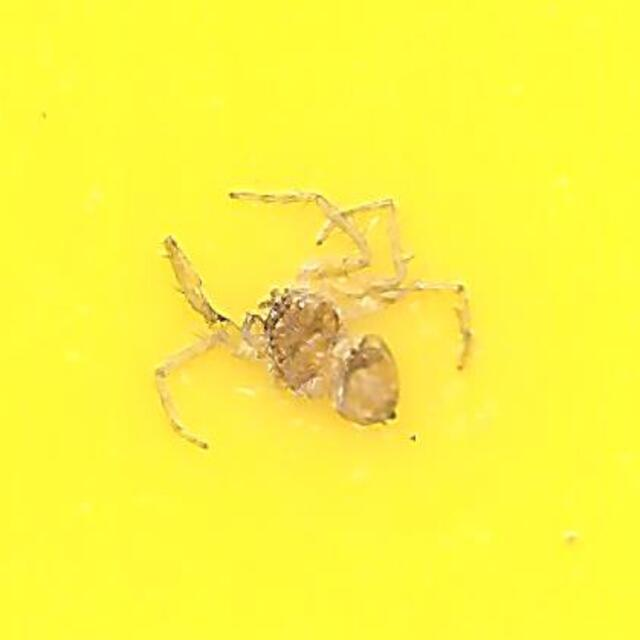Araneae: (153, 176, 487, 464)
